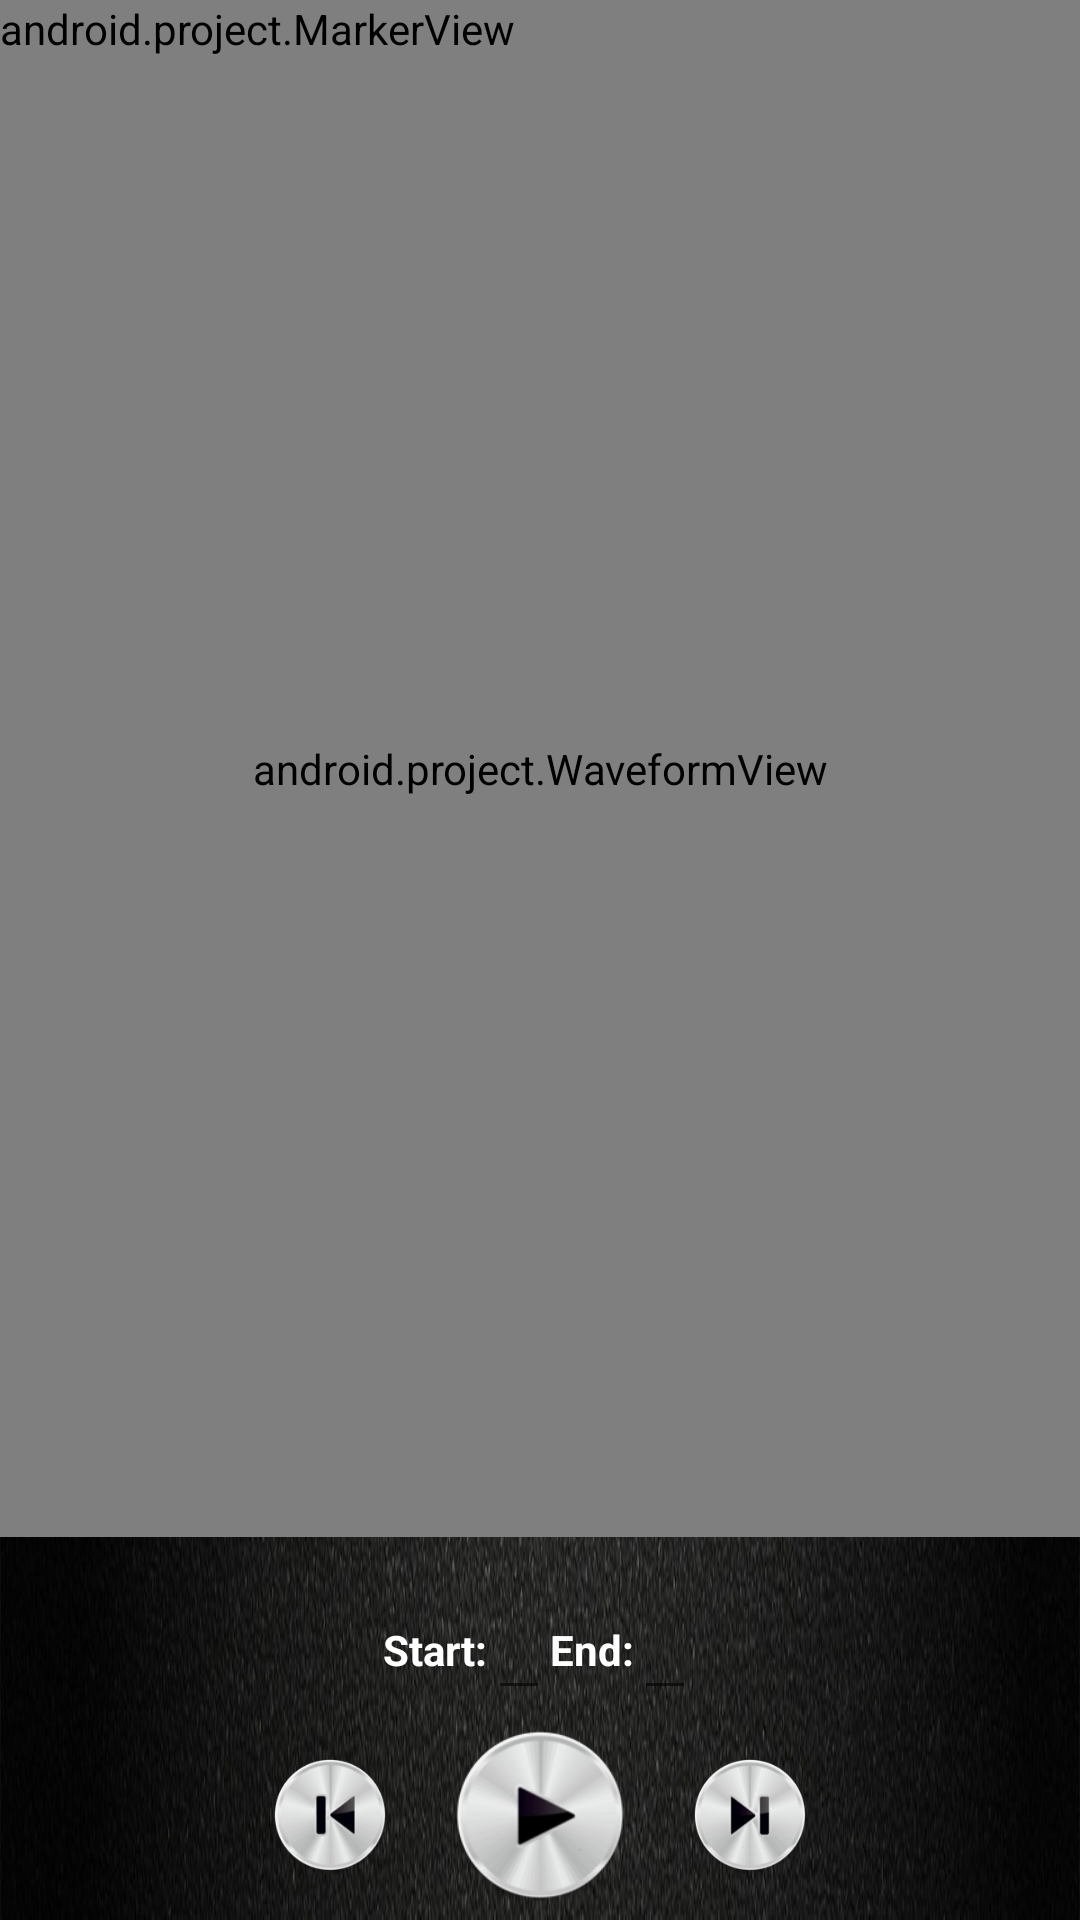

Point at icon controls on the screen. Image size 1080*1920, points as (x,y).
next: (747,1813)
play: (540,1815)
pre: (331,1814)
